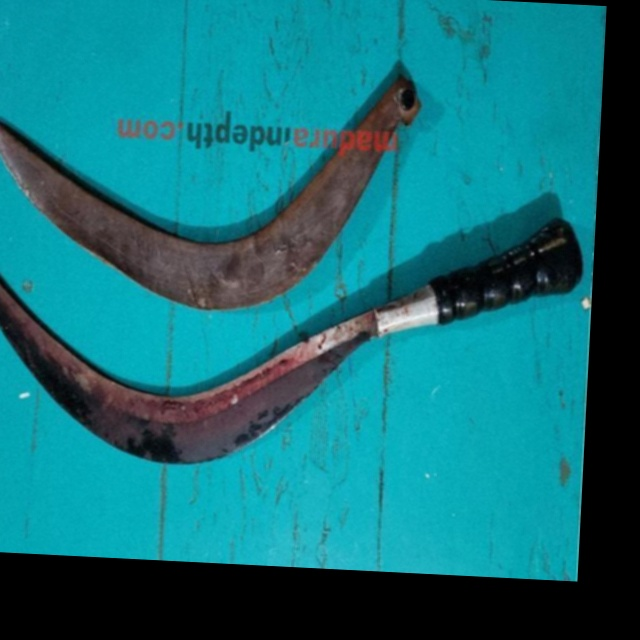Sharp-Object: (0, 184, 588, 490)
